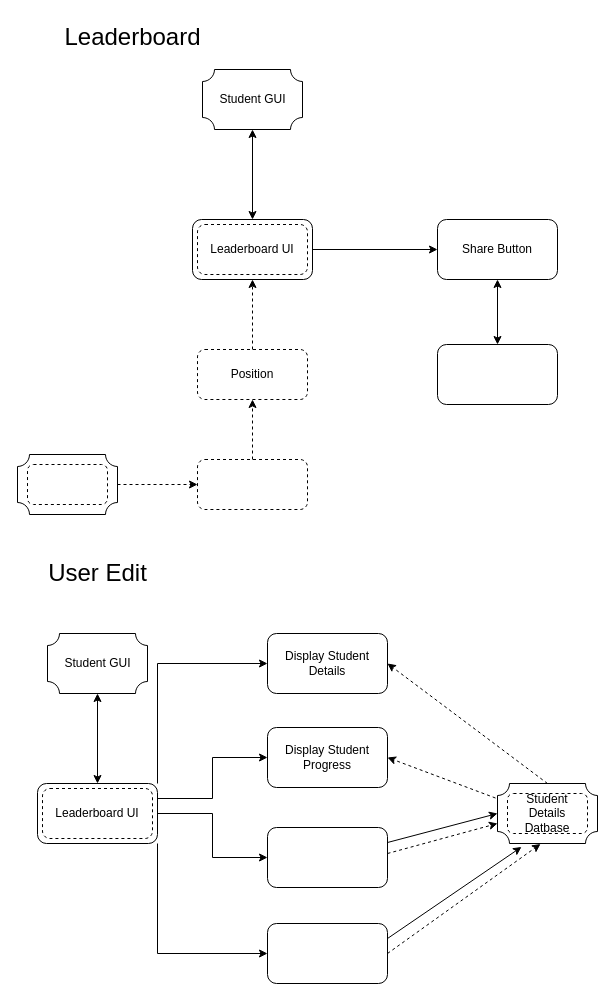
The diagram is 615 pixels wide and 1001 high, and some of its shapes have lost their labels. Here are the shapes that lost their labels. From the top down, the box of each, then its label:
(436, 344, 558, 404): Facebook/Twitter Login API
(26, 464, 108, 504): Points Database
(196, 458, 308, 510): Total Points
(266, 826, 388, 888): Change User Details
(266, 922, 388, 984): Change User Settings
